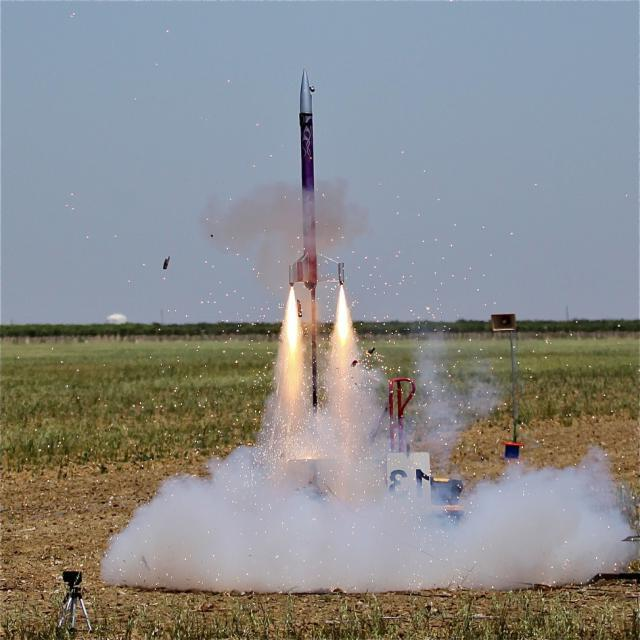missile: (287, 66, 323, 322), (336, 258, 348, 294)
